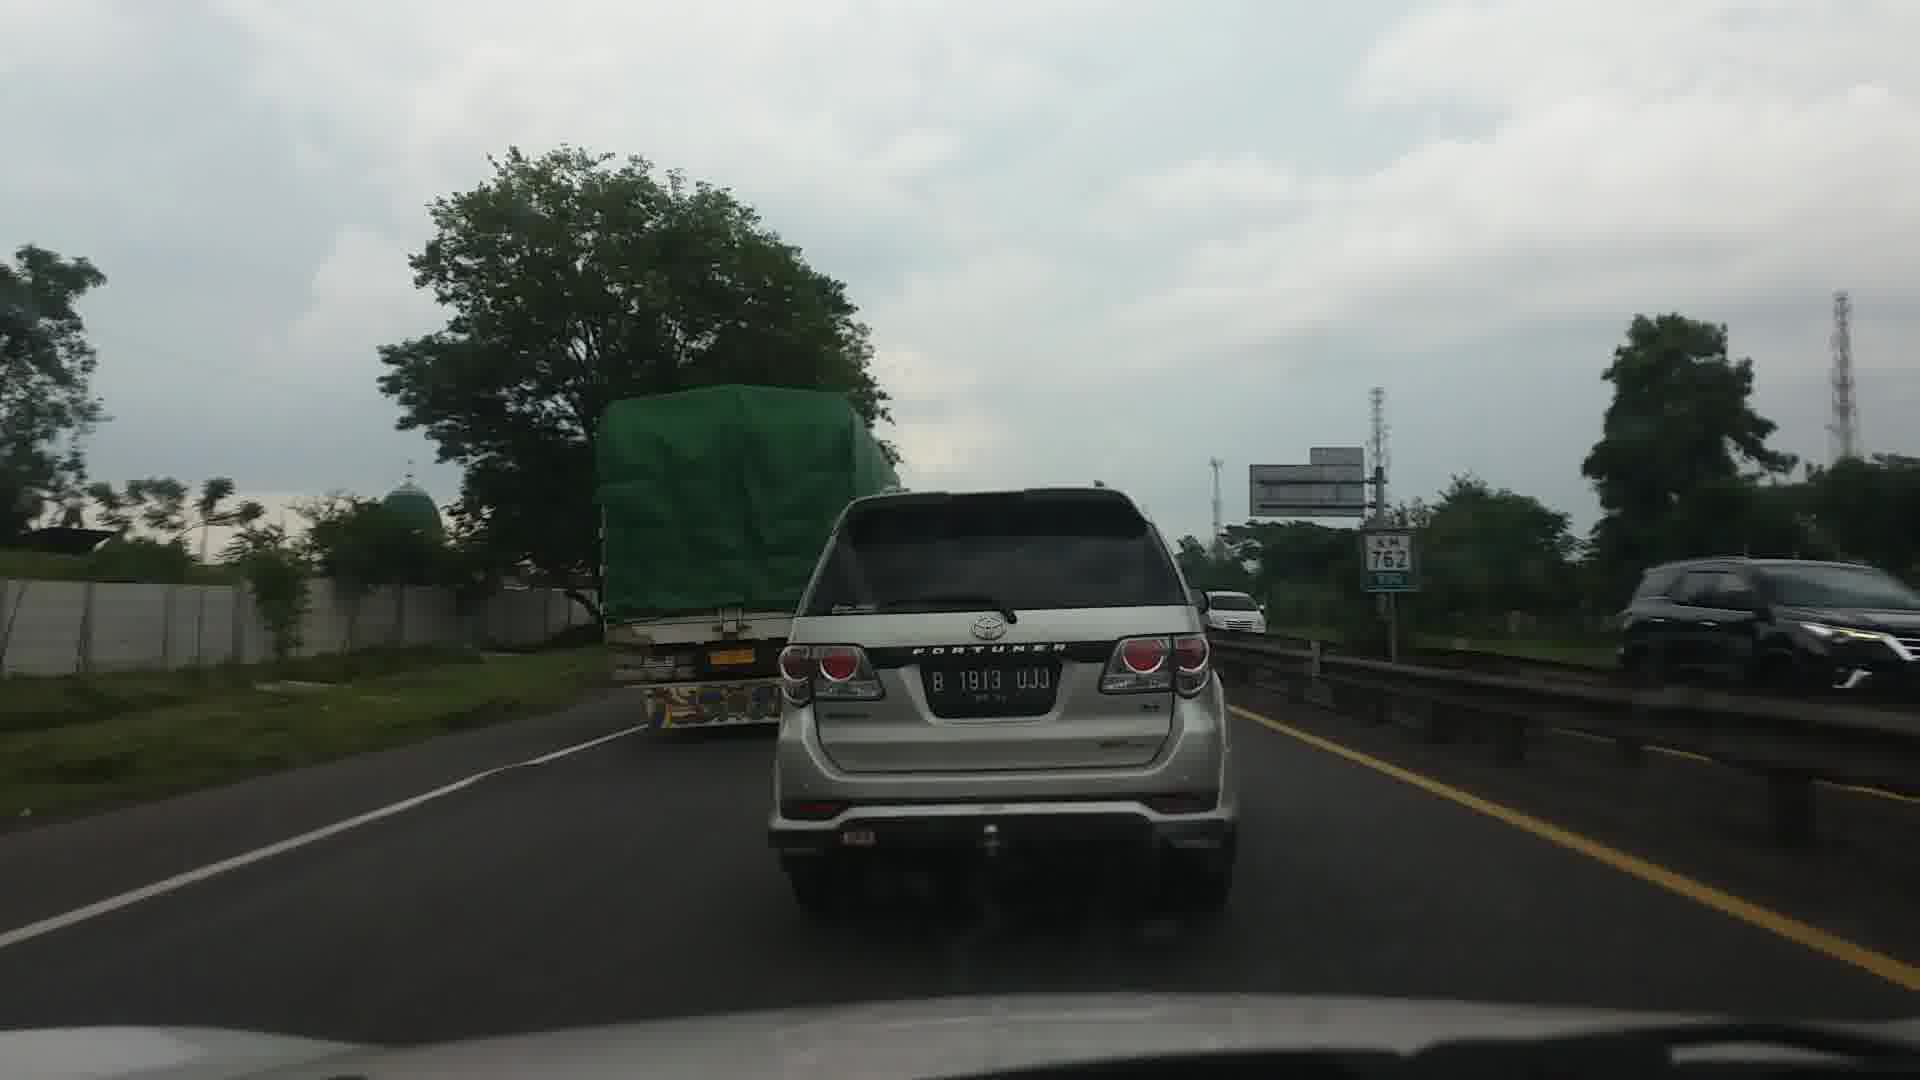plate_positive: (926, 665, 1055, 704)
